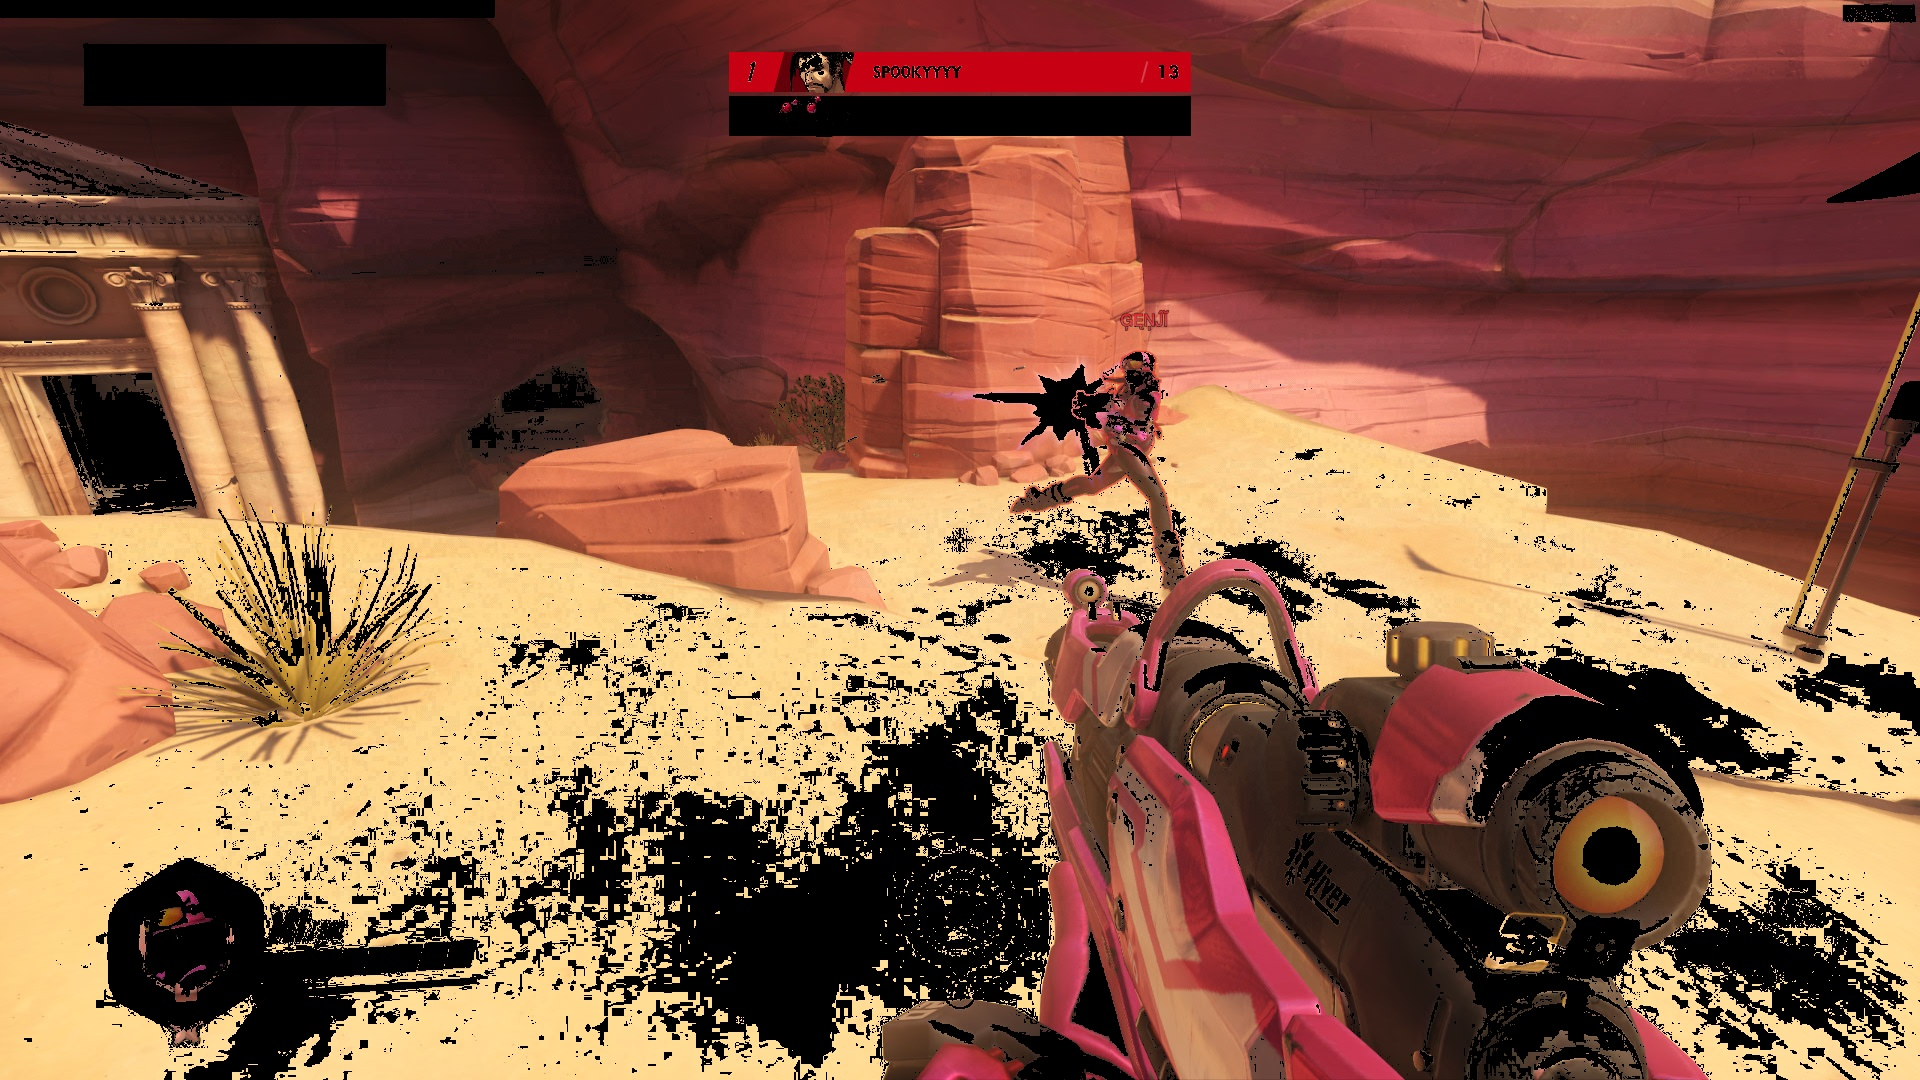widowmaker: (1002, 345, 1188, 599)
